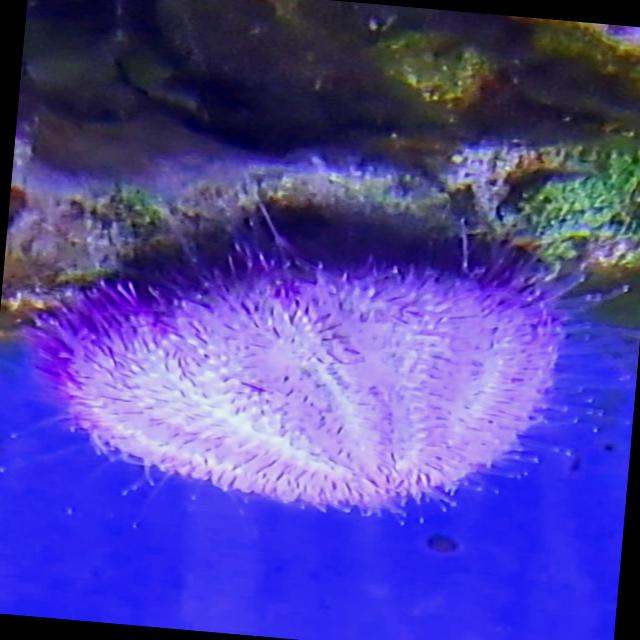Deniz Kestanesi: (13, 189, 623, 555)
